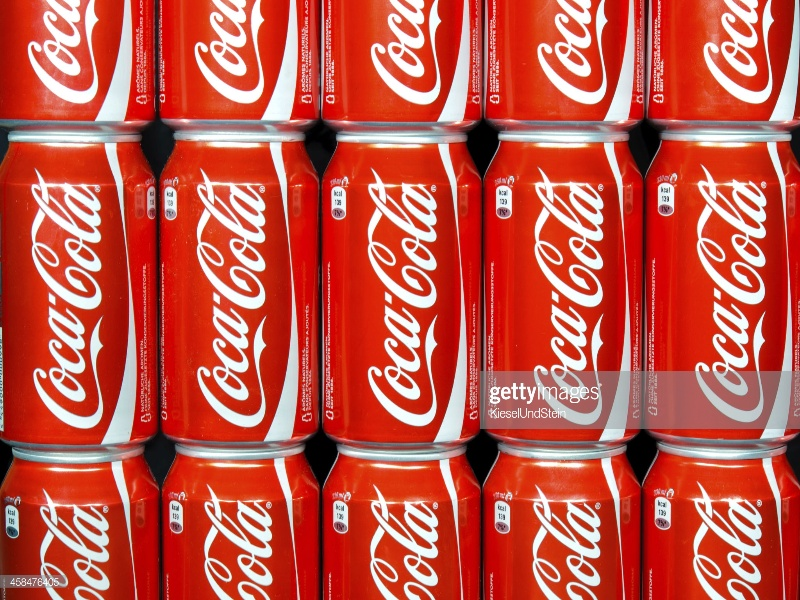coke-can: (160, 122, 327, 445), (637, 131, 800, 451), (480, 120, 637, 451), (320, 120, 480, 442), (1, 121, 160, 445), (641, 447, 800, 597), (1, 450, 161, 595), (167, 447, 318, 600), (325, 450, 479, 600), (487, 454, 636, 600)
